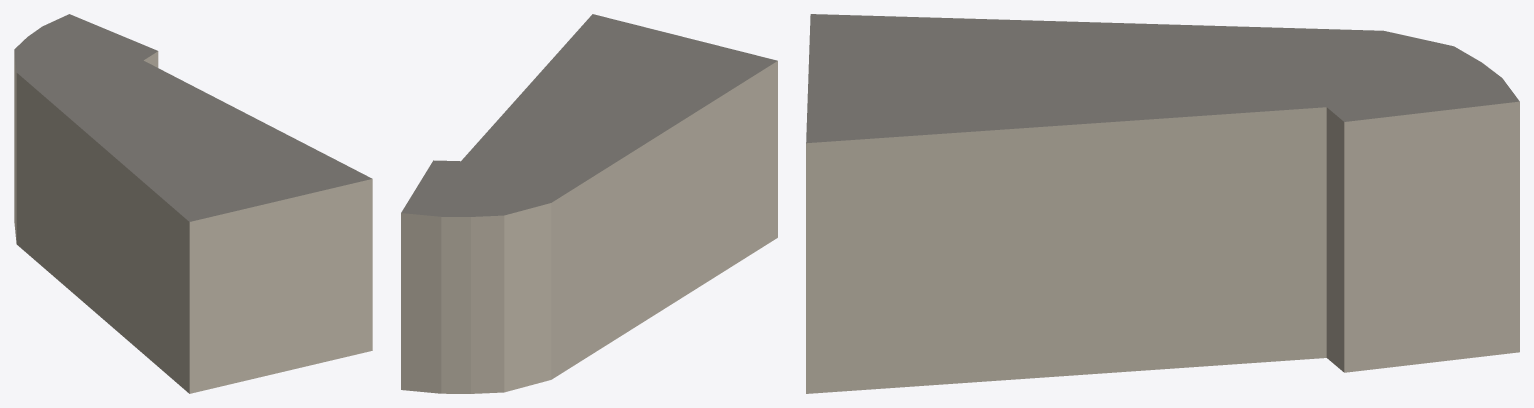
3 views of the same model, side by side, from view 1: azimuth 30°, elevation 25°; view 2: azimuth 150°, elevation 25°; view 3: azimuth 270°, elevation 25° (orthographic). The views are drawn at different scales.
Visible parts, largest first — view 1: HP-w372180530; view 2: HP-w372180530; view 3: HP-w372180530.
Boxes of the visible parts, x1,y1,x2,y2 form: HP-w372180530: (14, 14, 372, 393); HP-w372180530: (401, 14, 777, 393); HP-w372180530: (806, 14, 1519, 393).
Bounding box in the file's own units: 19.9 × 18 × 46.43.
